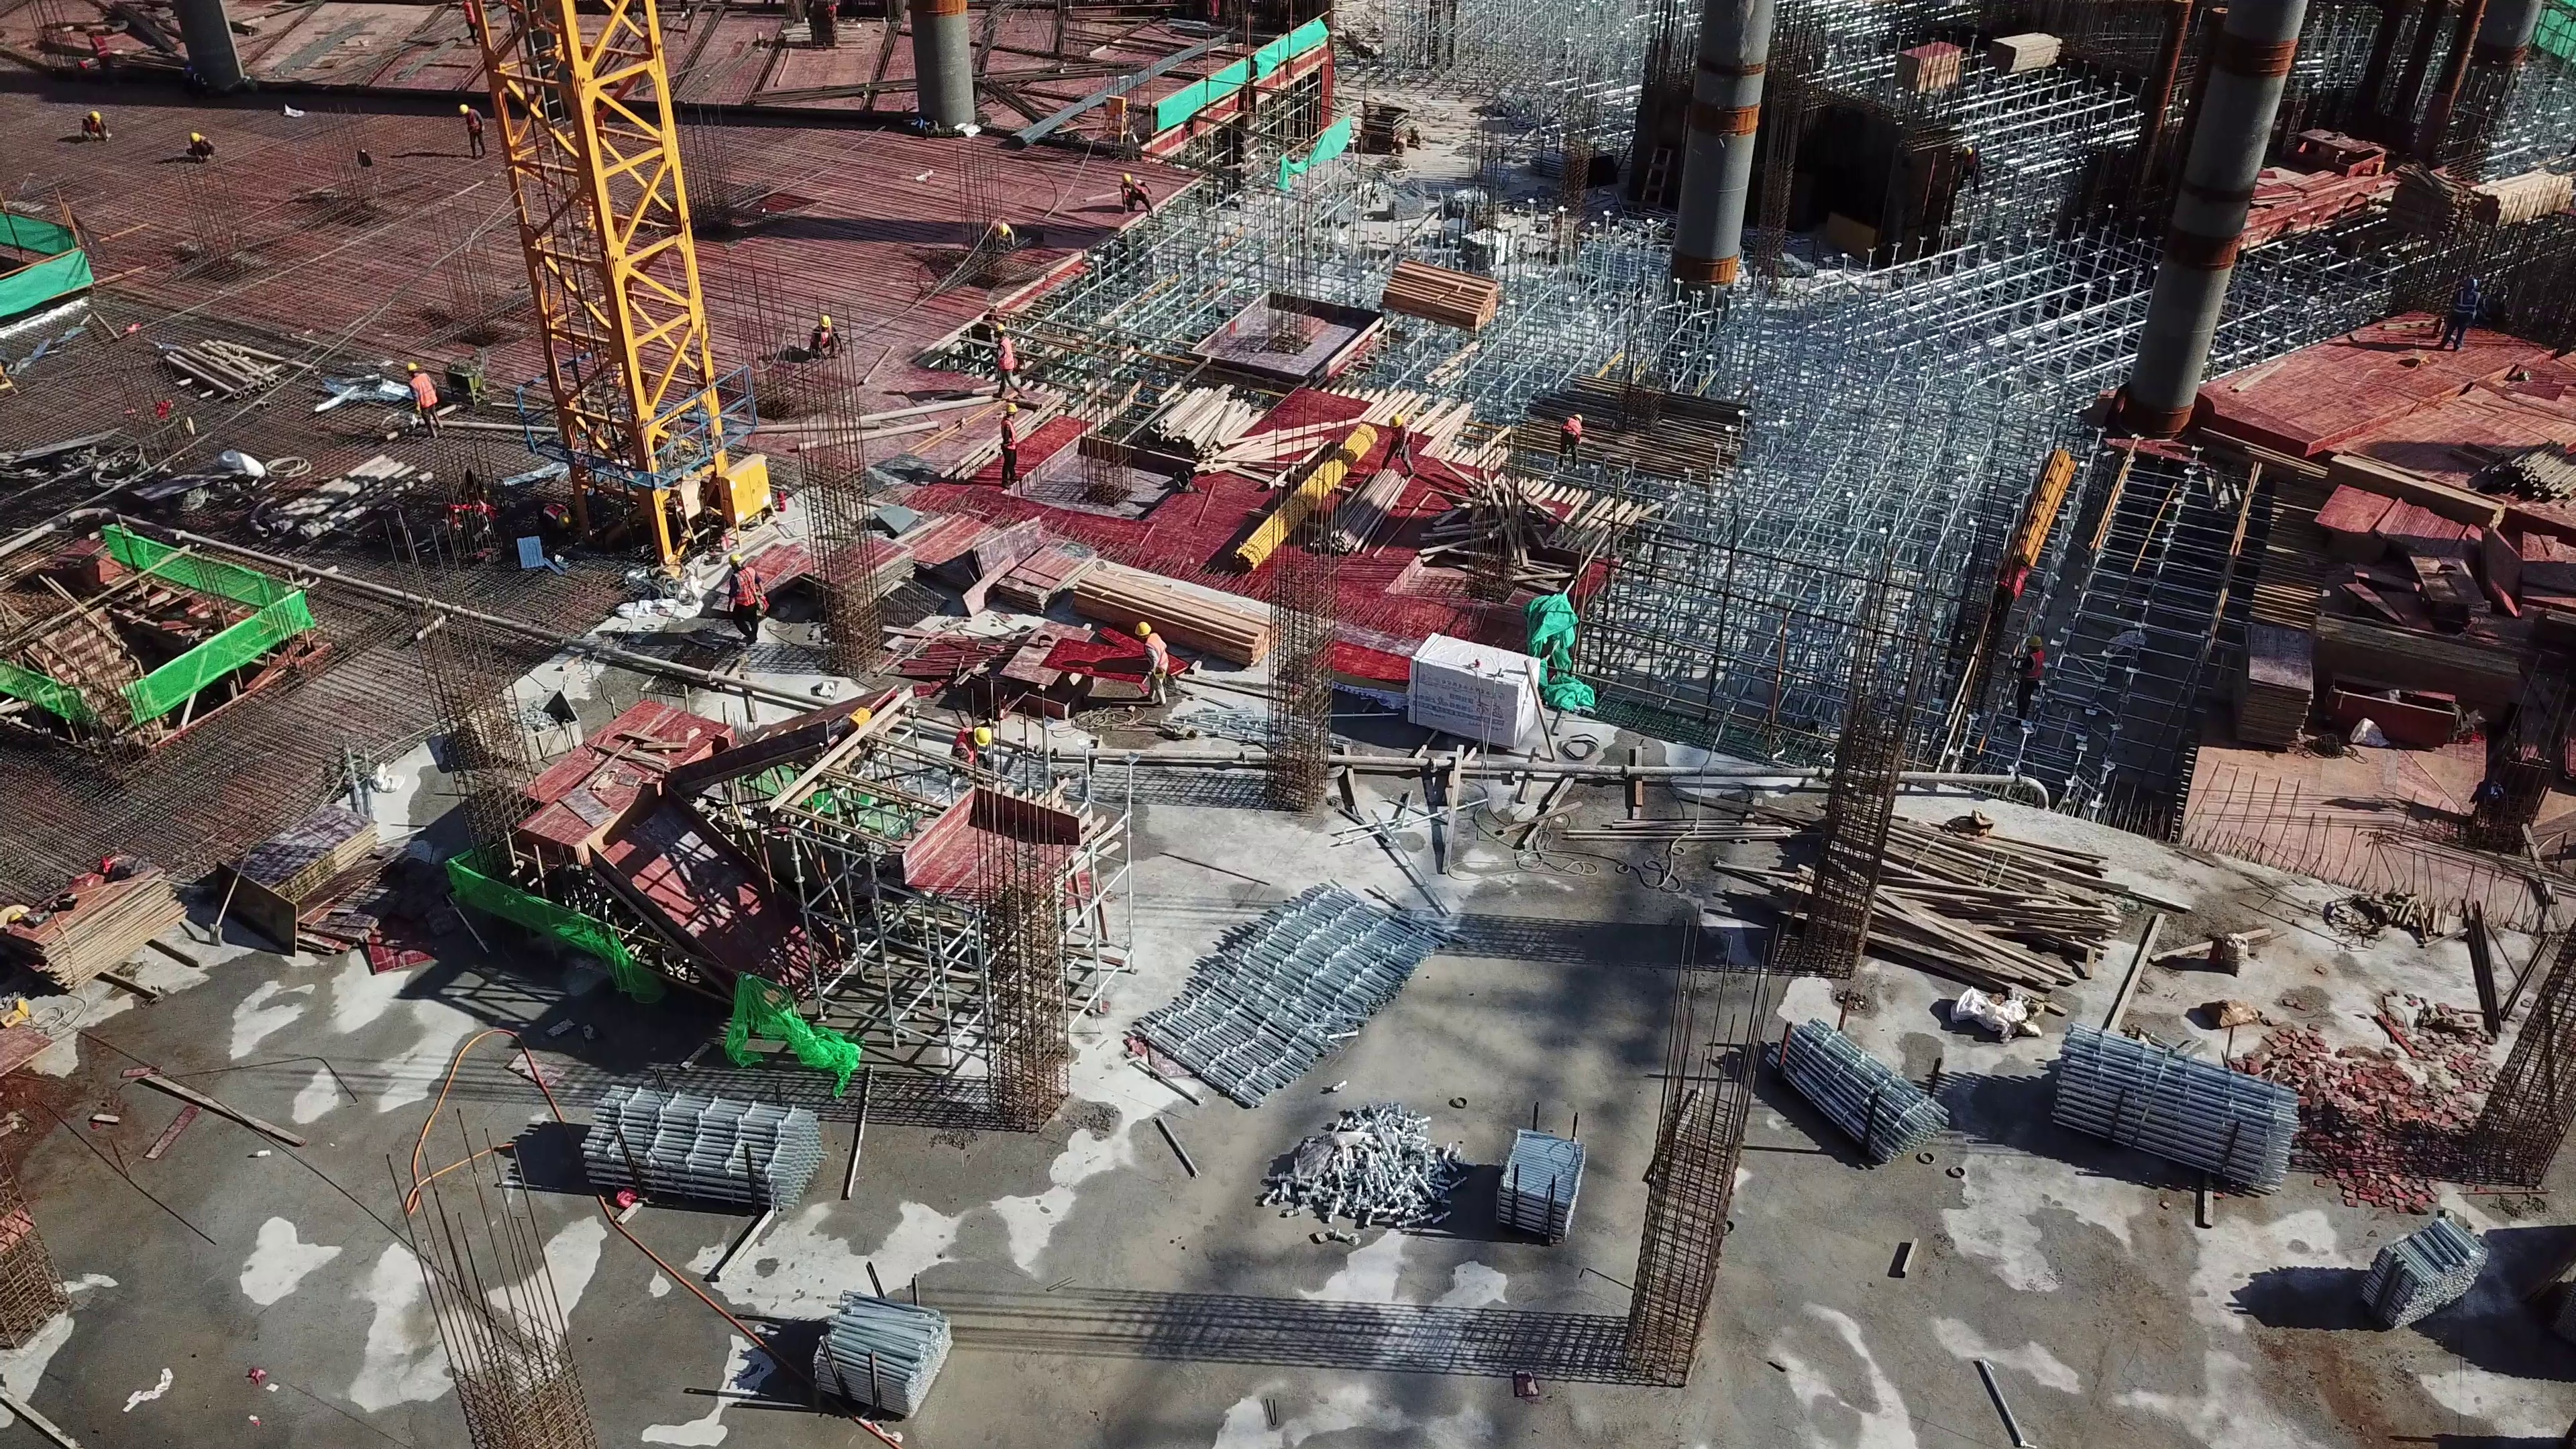board: (224, 794, 373, 940), (17, 859, 186, 981), (2237, 622, 2313, 759)
ebox: (722, 451, 777, 531)
person: (1126, 613, 1178, 721), (394, 351, 458, 439), (723, 549, 767, 672), (1992, 549, 2033, 647), (980, 310, 1015, 400), (2015, 626, 2046, 727), (1377, 409, 1417, 479), (994, 407, 1026, 491), (451, 100, 490, 162), (1120, 167, 1159, 223), (80, 107, 116, 154), (1560, 412, 1587, 476), (814, 310, 843, 363), (183, 131, 217, 159)
scaffold: (1137, 888, 1461, 1118), (2047, 1013, 2313, 1220), (1286, 1130, 1584, 1244), (578, 1080, 810, 1220), (1794, 1013, 1951, 1179), (790, 1284, 959, 1409), (2377, 1208, 2479, 1342)
wood: (1788, 800, 2112, 993), (1070, 546, 1269, 660), (1126, 386, 1295, 497), (2322, 445, 2506, 549), (2467, 424, 2576, 506), (1379, 264, 1505, 333), (2461, 172, 2570, 236), (1987, 22, 2059, 74)
